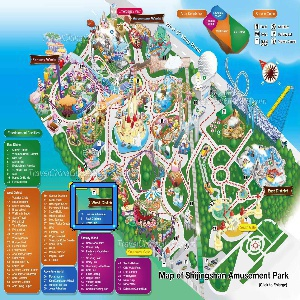square: (69, 182, 118, 231)
